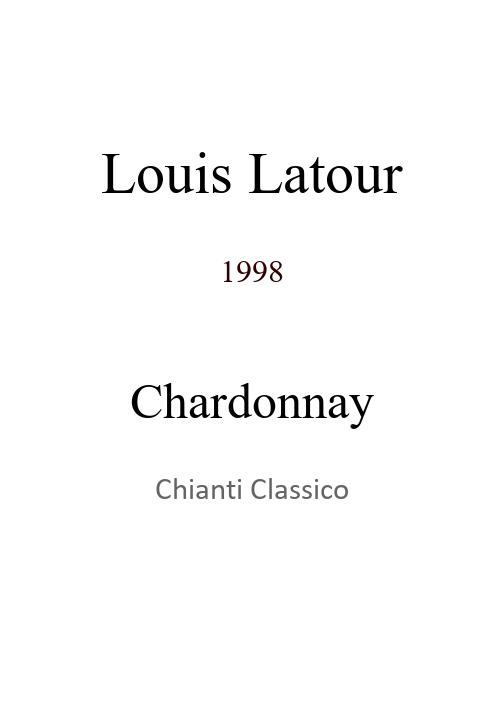brand: (101, 141, 403, 182)
region: (155, 475, 349, 496)
variety: (130, 373, 374, 419)
vintage: (220, 253, 284, 274)
